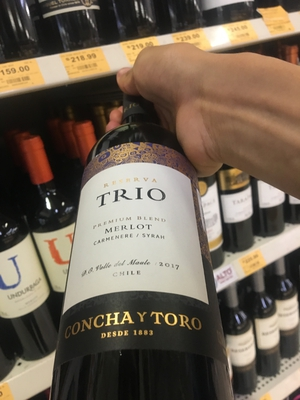trio merlot: (55, 59, 225, 400)
